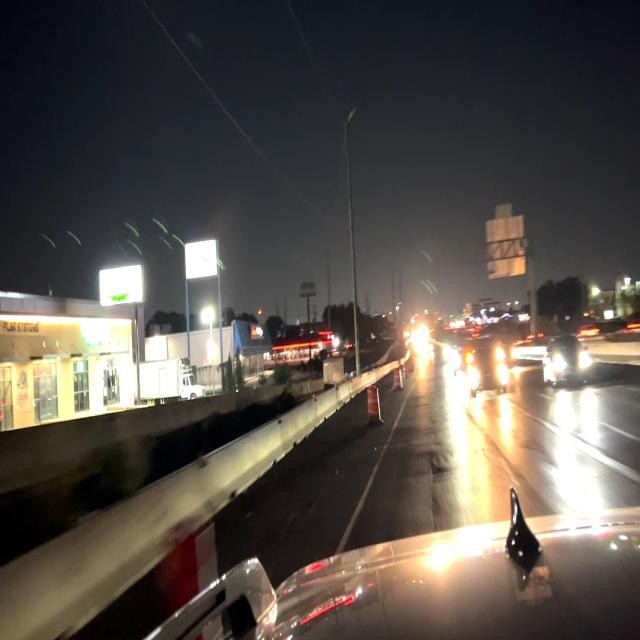back-of-sign: (483, 193, 530, 285)
